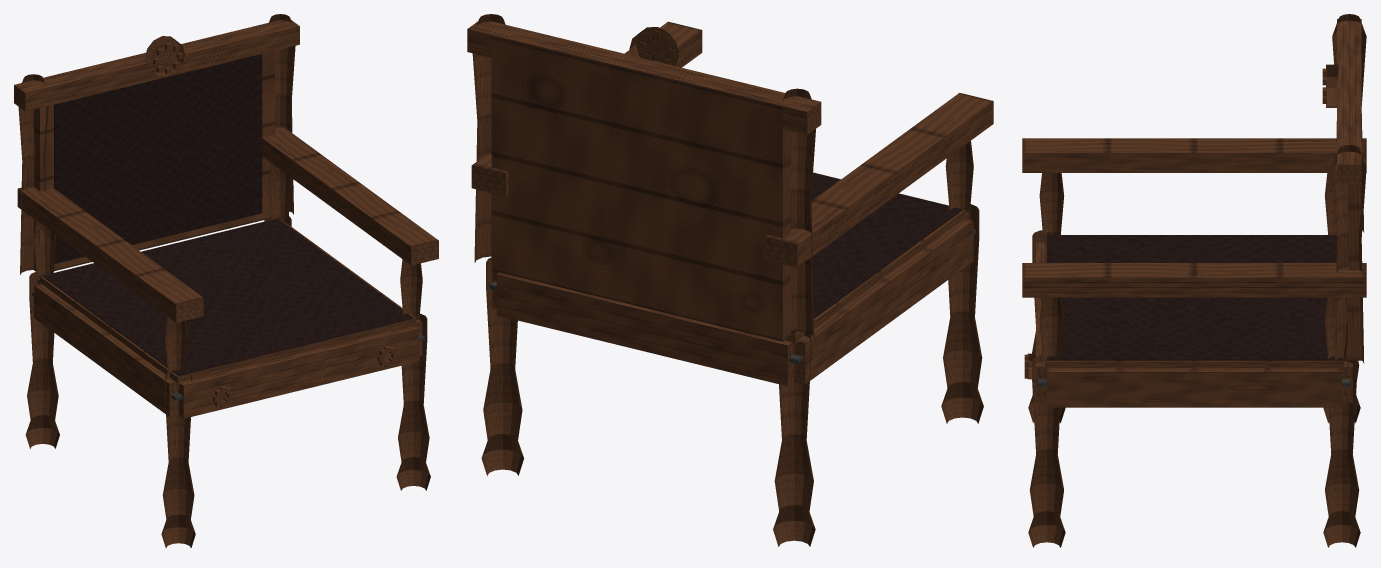
File: luxury_chair.obj
3 renders of one model, left to right at view 1: azimuth 30°, elevation 25°; view 2: azimuth 150°, elevation 25°; view 3: azimuth 270°, elevation 25°, orthographic. The views are drawn at different scales.
Parts seen in each view (by area): view 1: material_5, material_2; view 2: material_5, material_2; view 3: material_5, material_2.
Boxes of the visible parts, box(x1,y1,x2,y2) form: material_5: box(14, 14, 438, 547); material_2: box(43, 54, 413, 375); material_5: box(467, 14, 993, 546); material_2: box(791, 173, 962, 333); material_5: box(1022, 14, 1366, 547); material_2: box(1047, 235, 1341, 360).
Bounding box in the file's own units: 22.37 × 30.05 × 22.37.
3 materials, 3 textured.
